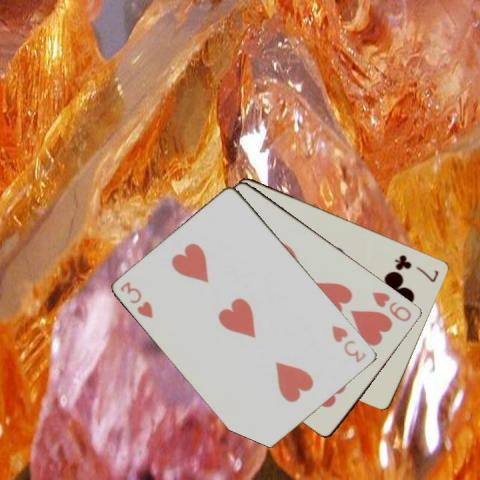3h: (329, 322, 368, 364), (118, 278, 156, 319)
7c: (392, 252, 441, 284)
9h: (370, 289, 414, 323)
